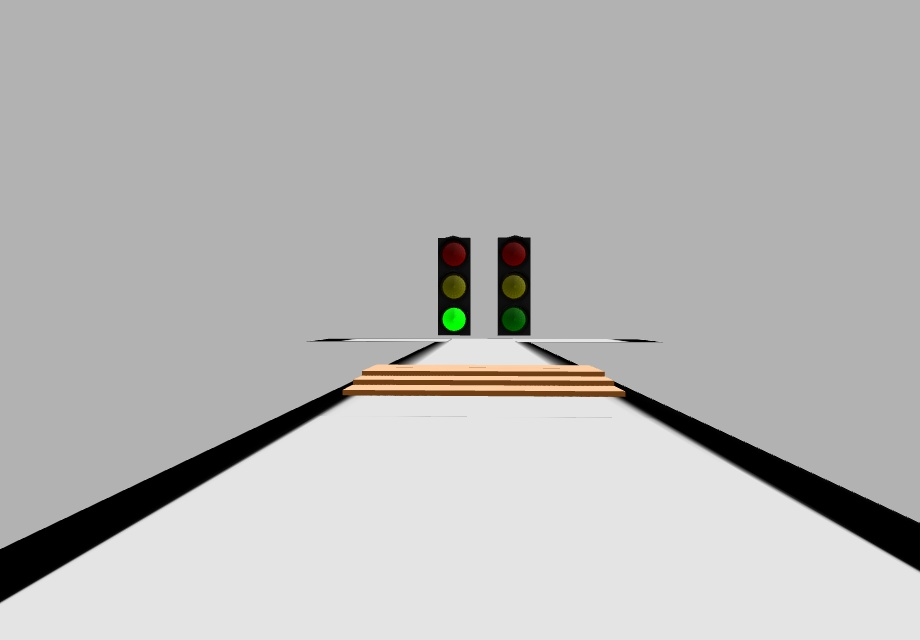green_off: (500, 305, 528, 333)
green_on: (439, 305, 468, 332)
stairs: (344, 365, 626, 397)
